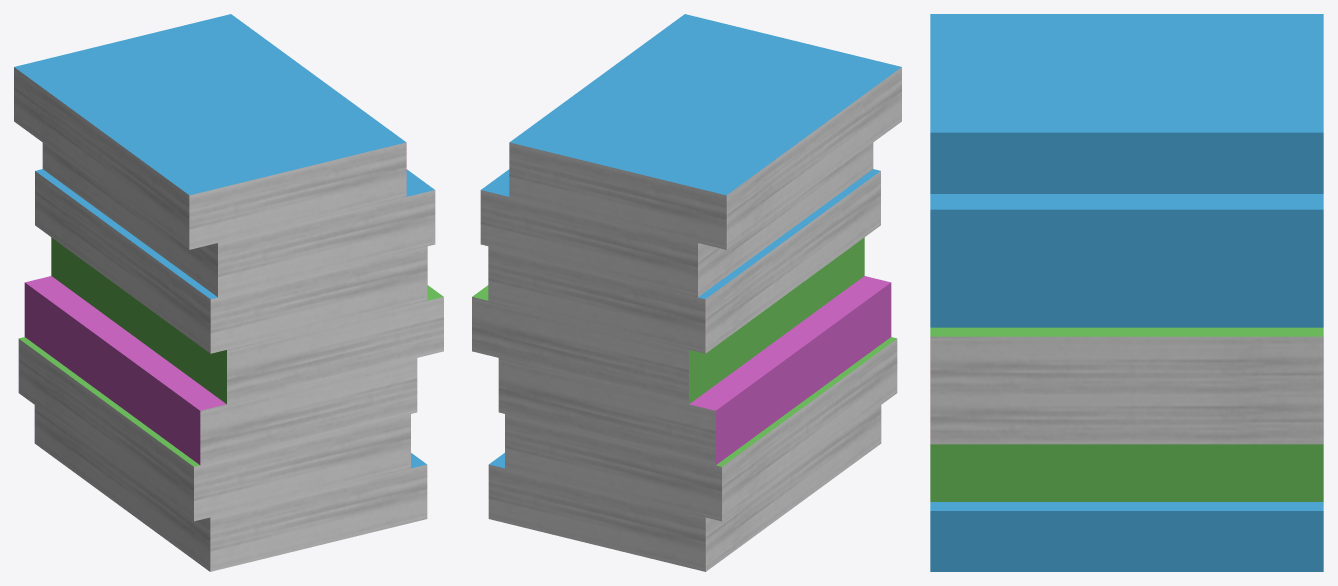
File: books2.glb
3 renders of one model, left to right at view 1: azimuth 30°, elevation 25°; view 2: azimuth 150°, elevation 25°; view 3: azimuth 270°, elevation 25°, orthographic. The views are drawn at different scales.
Parts seen in each view (by area): view 1: Book_Blue4_lambert5_0.001, Book_Purple1_lambert5_0.001, Book_Blue2_lambert5_0.001, Book_Green1_lambert5_0.001, Book_Blue1_lambert5_0.001, Book_Green2_lambert5_0.001, Book_Blue3_lambert5_0.001; view 2: Book_Blue4_lambert5_0.001, Book_Purple1_lambert5_0.001, Book_Blue2_lambert5_0.001, Book_Green1_lambert5_0.001, Book_Blue1_lambert5_0.001, Book_Green2_lambert5_0.001, Book_Blue3_lambert5_0.001; view 3: Book_Blue4_lambert5_0.001, Book_Blue3_lambert5_0.001, Book_Green2_lambert5_0.001, Book_Blue1_lambert5_0.001, Book_Blue2_lambert5_0.001, Book_Green1_lambert5_0.001, Book_Purple1_lambert5_0.001.
Boxes of the visible parts, box(x1,y1,x2,y2) form: Book_Blue4_lambert5_0.001: box(14, 14, 406, 249); Book_Purple1_lambert5_0.001: box(24, 276, 417, 465); Book_Blue2_lambert5_0.001: box(35, 169, 427, 353); Book_Green1_lambert5_0.001: box(18, 337, 410, 521); Book_Blue1_lambert5_0.001: box(34, 405, 427, 571); Book_Green2_lambert5_0.001: box(51, 237, 443, 404); Book_Blue3_lambert5_0.001: box(42, 143, 435, 297); Book_Blue4_lambert5_0.001: box(509, 14, 901, 249); Book_Purple1_lambert5_0.001: box(498, 276, 891, 465); Book_Blue2_lambert5_0.001: box(488, 169, 880, 353); Book_Green1_lambert5_0.001: box(505, 337, 897, 521); Book_Blue1_lambert5_0.001: box(488, 405, 881, 571); Book_Green2_lambert5_0.001: box(472, 237, 864, 404); Book_Blue3_lambert5_0.001: box(480, 143, 873, 297); Book_Blue4_lambert5_0.001: box(930, 14, 1323, 193); Book_Blue3_lambert5_0.001: box(930, 194, 1323, 270); Book_Green2_lambert5_0.001: box(930, 327, 1323, 397); Book_Blue1_lambert5_0.001: box(930, 502, 1323, 571); Book_Blue2_lambert5_0.001: box(930, 270, 1323, 327); Book_Green1_lambert5_0.001: box(930, 444, 1323, 501); Book_Purple1_lambert5_0.001: box(930, 397, 1323, 444).
Size of the model in its own units: 0.2931 by 0.42 by 0.35.
1 material, 1 textured.
